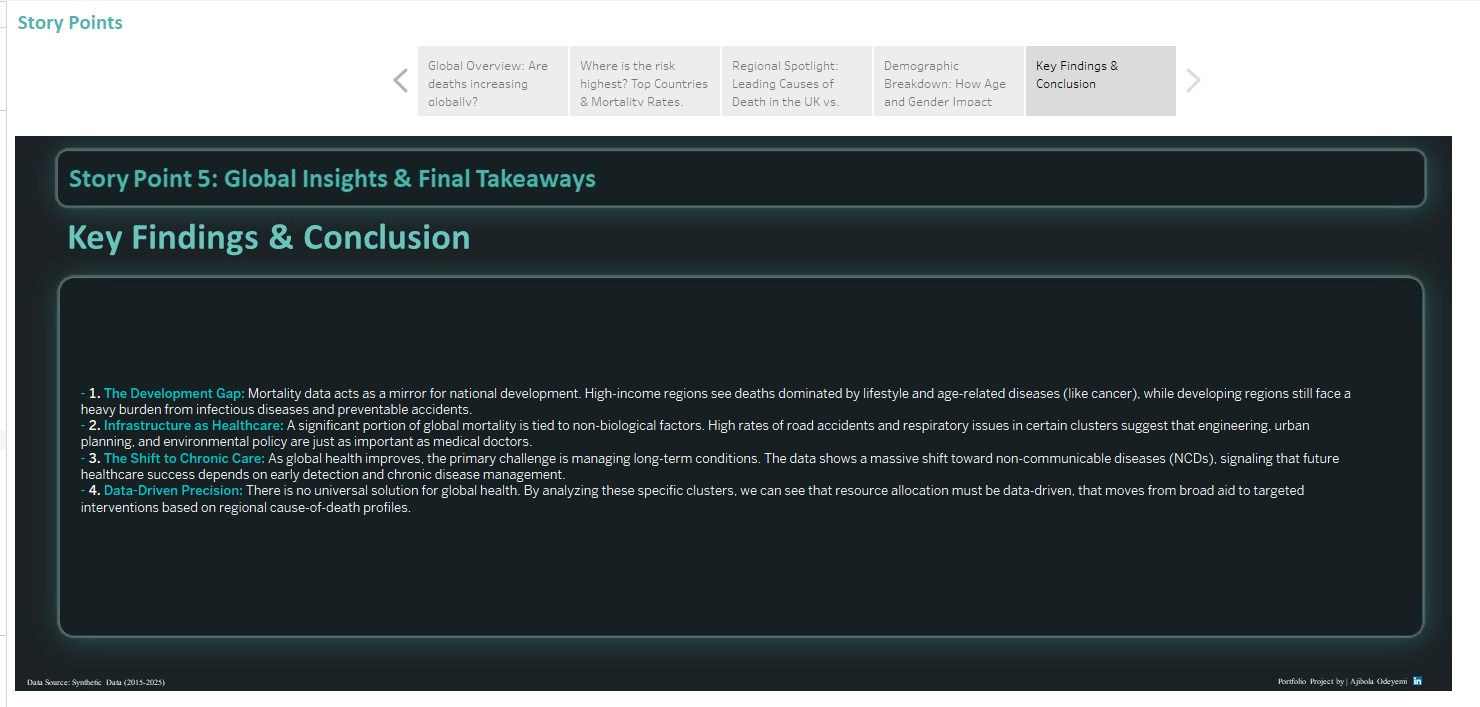

The page's visual inventory and layout, read from the dashboard file:
{"tool":"tableau","page":{"name":"Dashboard 6","canvas":[1440,560],"ordinal":5},"visuals":[{"type":"text","box":[63,160,1290,313]}]}

Visuals, with their boxes on the page's 1440x560 design canvas (x1, y1, x2, y2). These are canvas units, not pixel positions in the 1480x707 screenshot, which may show the page scaled, cropped or inside an application window:
text: {"left": 63, "top": 160, "right": 1353, "bottom": 473}
